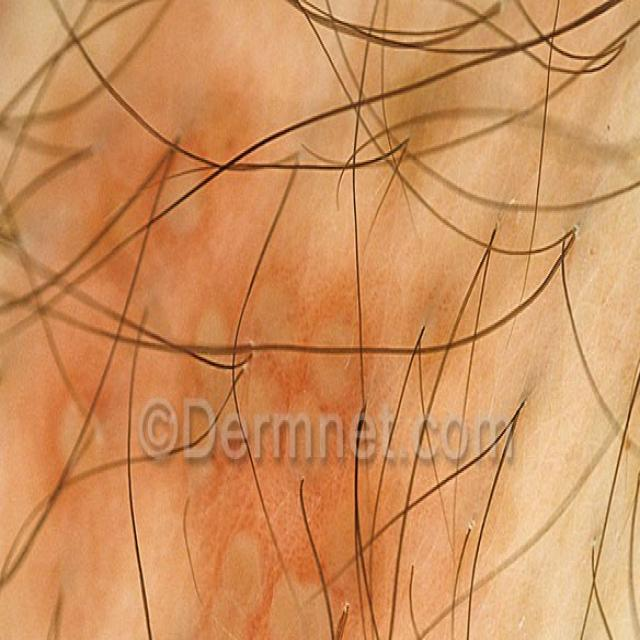Viral Infections: (15, 116, 443, 640)
